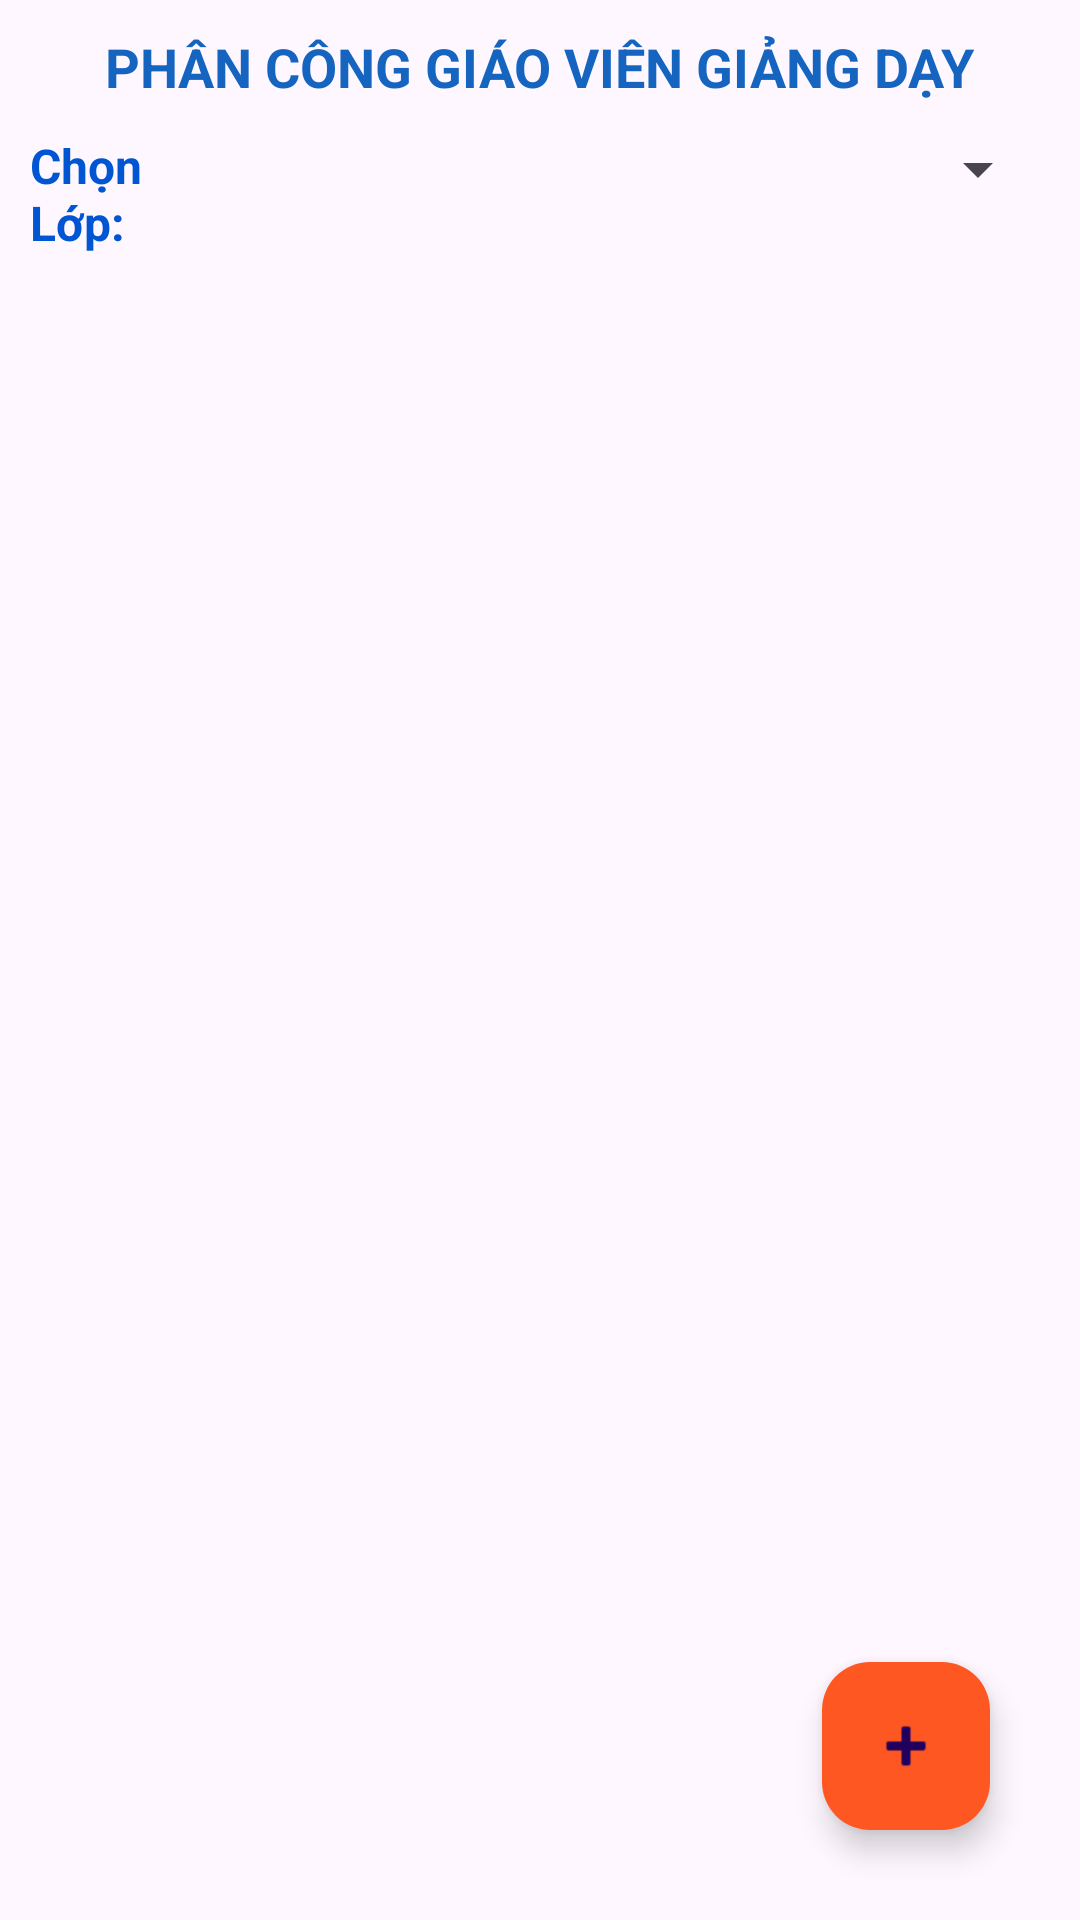

Icon click points for this 1080×1920 phone screenshot, format point (x, y):
add: point (906, 1746)
